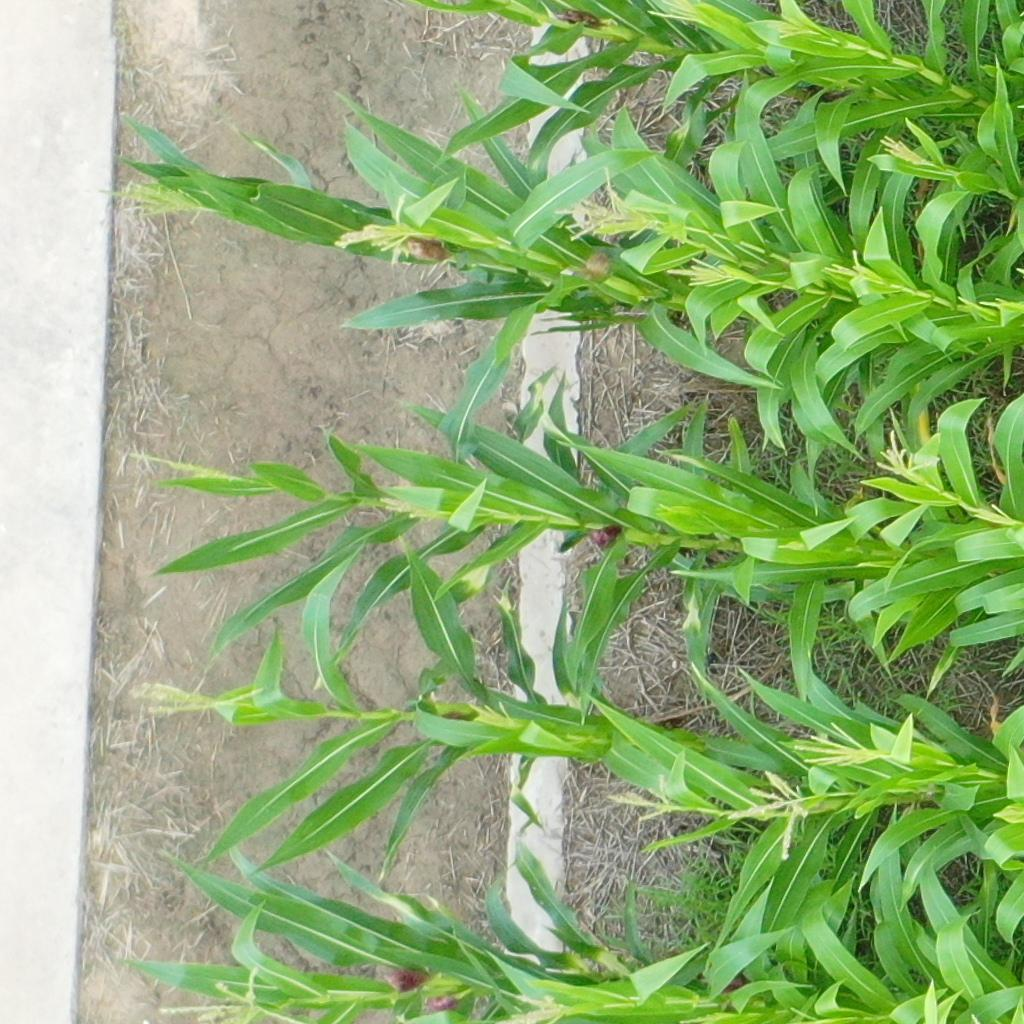Tassel: (552, 167, 666, 242), (725, 769, 810, 861), (332, 194, 432, 257), (94, 172, 217, 222), (116, 445, 246, 488), (129, 676, 260, 715), (790, 720, 888, 769), (869, 428, 941, 482), (605, 774, 681, 821), (661, 256, 743, 294), (816, 248, 889, 286), (207, 967, 269, 1011), (881, 133, 942, 166), (970, 496, 1024, 532), (467, 700, 525, 732), (647, 1, 712, 27), (373, 494, 433, 520), (775, 12, 816, 40), (510, 993, 568, 1010), (975, 297, 1024, 312)
